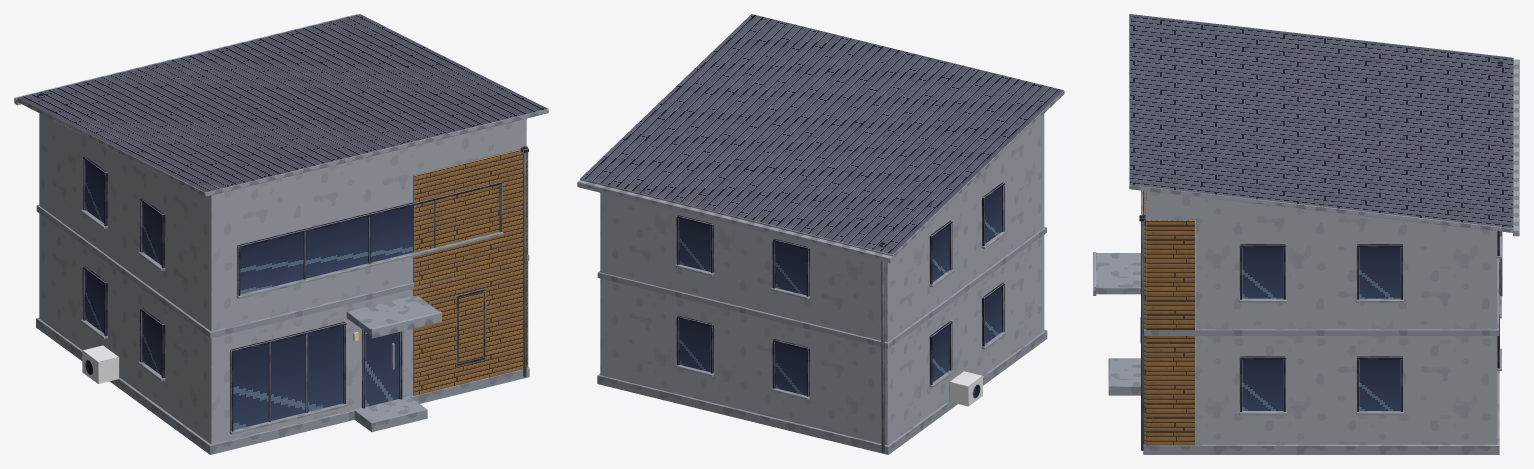
Rendered from modern_house_1.glb.
3 renders of one model, left to right at view 1: azimuth 30°, elevation 25°; view 2: azimuth 150°, elevation 25°; view 3: azimuth 270°, elevation 25°, orthographic. The views are drawn at different scales.
Visible parts, largest first — view 1: modern_house_2; view 2: modern_house_2; view 3: modern_house_2.
Boxes of the visible parts, x1=… form: modern_house_2: x1=14, y1=14, x2=548, y2=454; modern_house_2: x1=577, y1=14, x2=1064, y2=454; modern_house_2: x1=1093, y1=14, x2=1519, y2=454.
Size of the model in its own units: 10.08 by 7.37 by 10.31.
10 materials, 10 textured.
